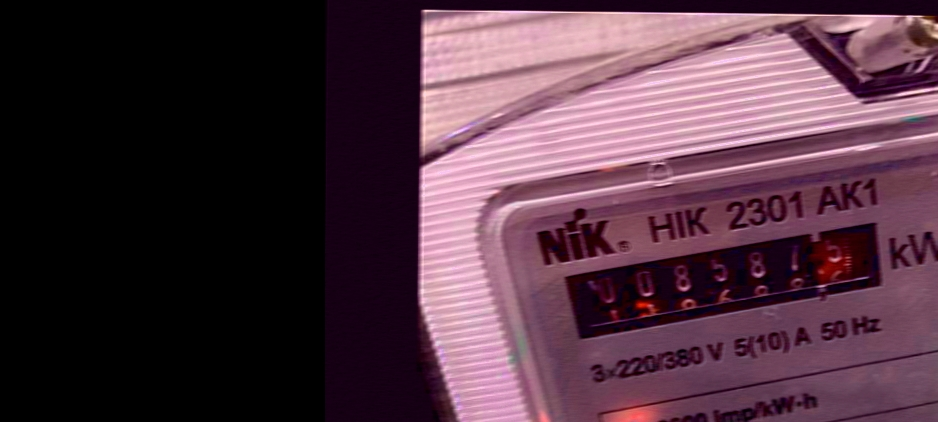0: (633, 266, 660, 300), (595, 274, 621, 306)
5: (709, 254, 733, 285), (824, 233, 846, 264)
6: (828, 268, 847, 285)
7: (784, 242, 807, 276)
8: (672, 262, 697, 295), (746, 248, 770, 282)
screen: (558, 219, 906, 345)
